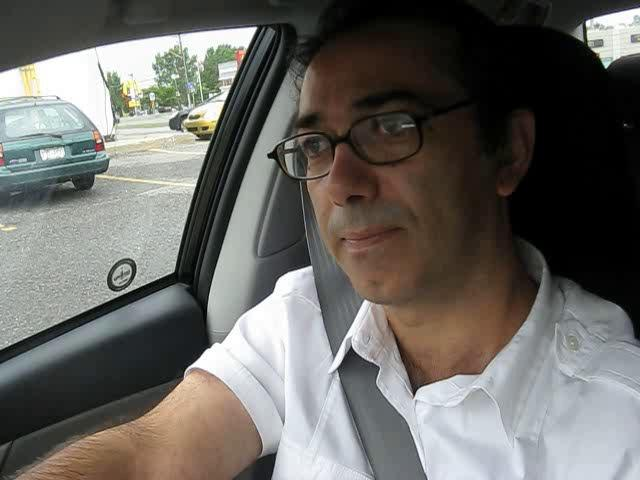no_yawn: (316, 210, 418, 267)
open_eyeL: (287, 125, 347, 171)
open_eyeR: (351, 102, 432, 158)
